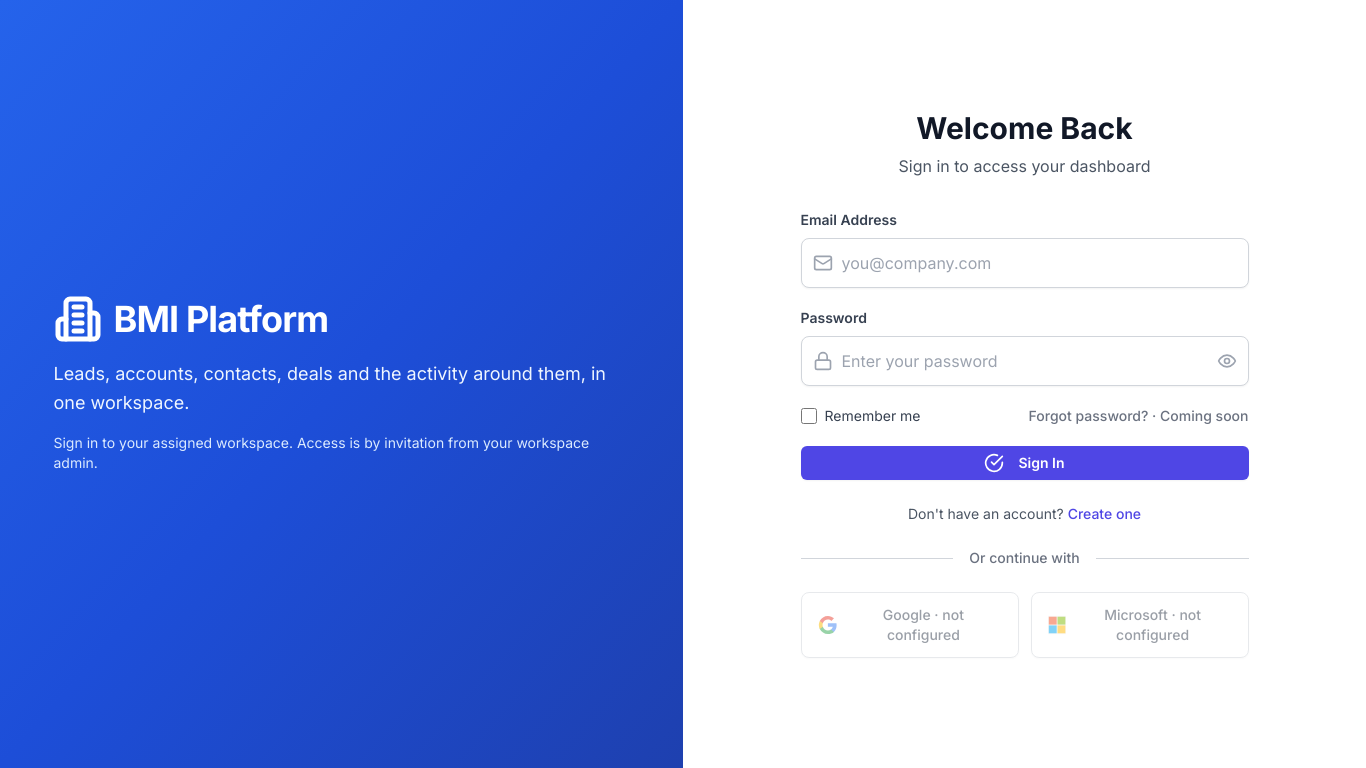
Test: Login when the backend cannot be reached › a refused connection (server not running) says "Can't reach the server"
The width and height of the screenshot is (1366, 768).
In the field with id "email": (1024, 263) [800,238,1248,288], type "asha@kora.example"
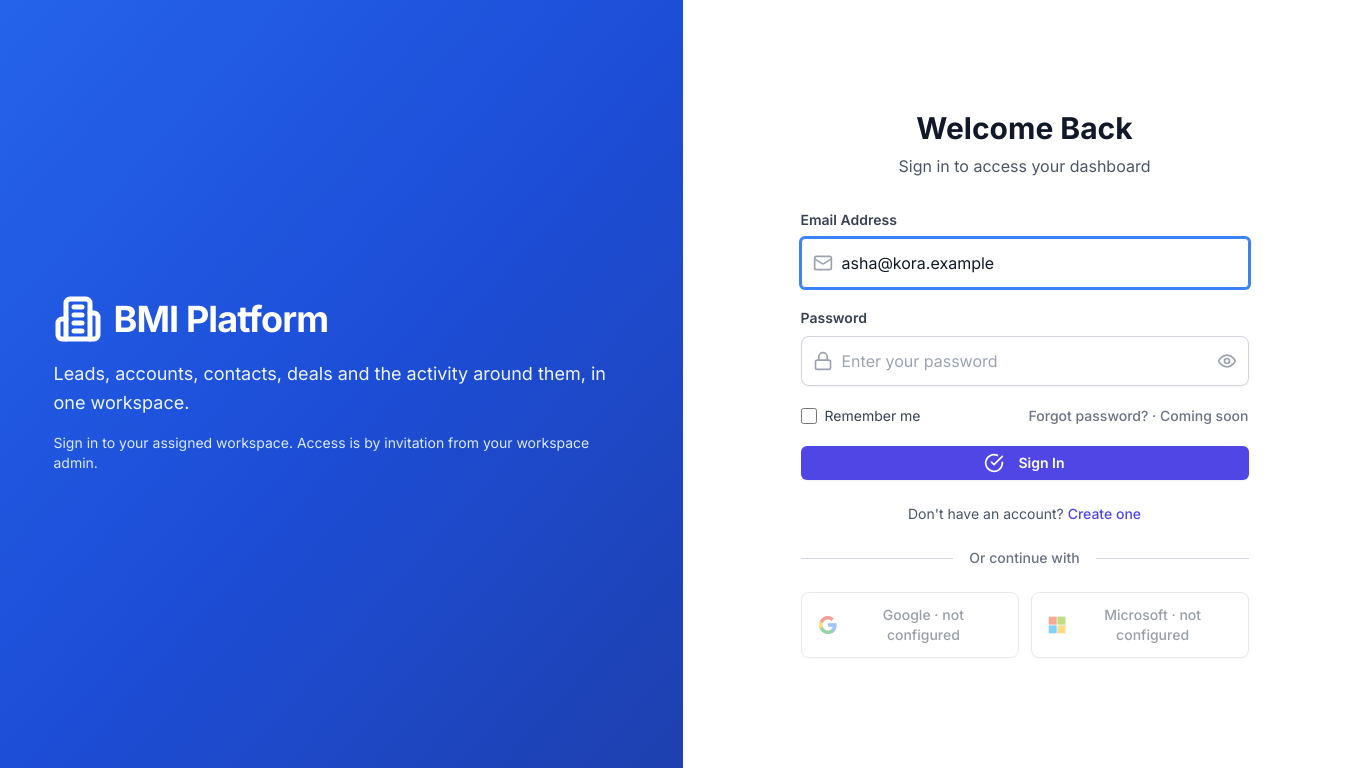
In the password field labelled "Password": (1024, 361) [800,336,1248,386], type "correct-horse-battery"
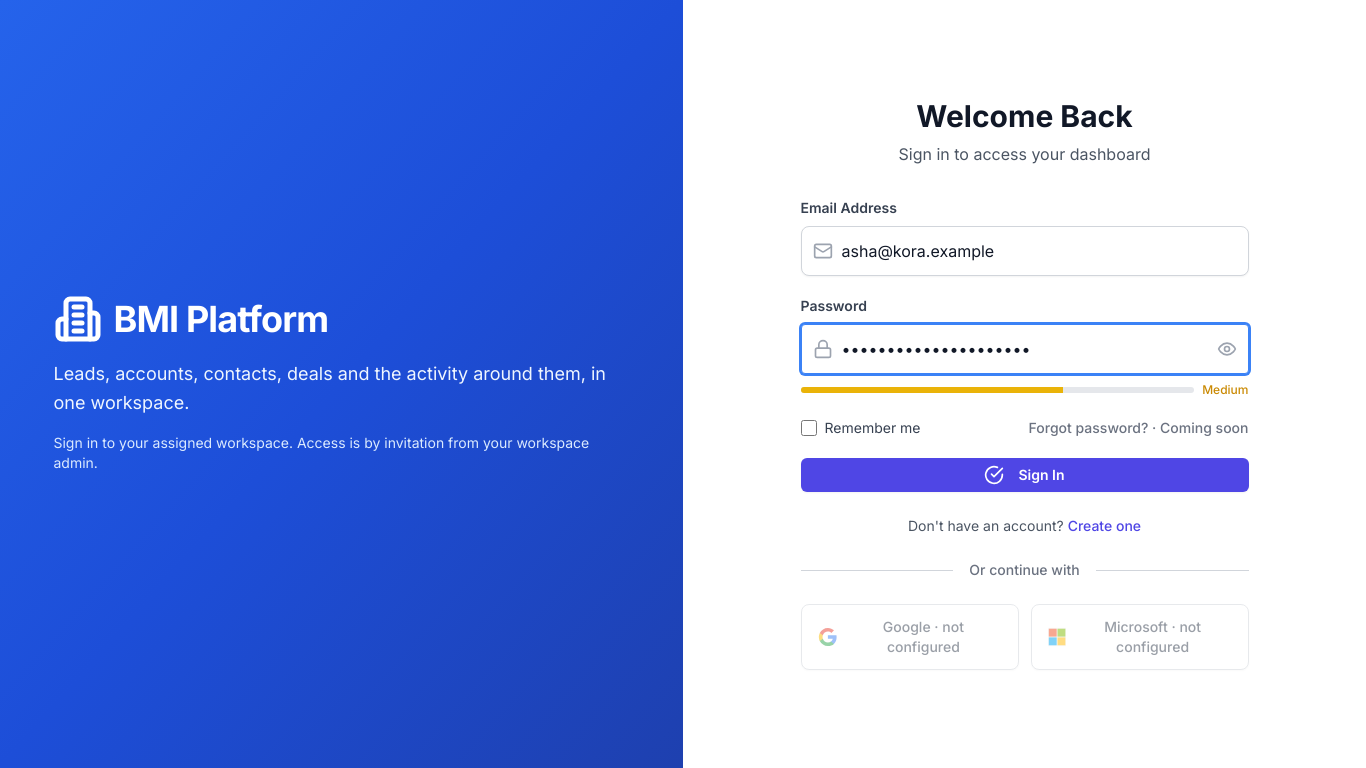
Click the button "Sign In": (1024, 475) [800,458,1248,492]
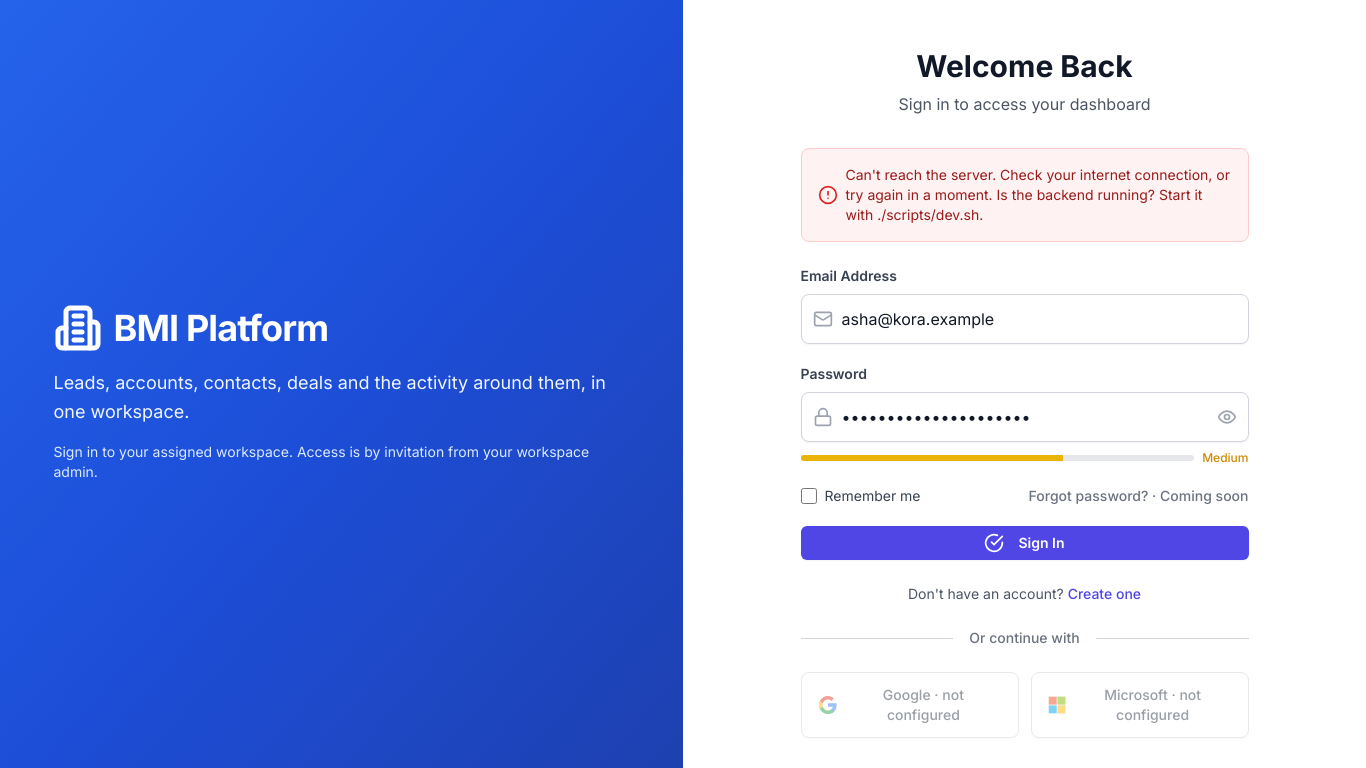
Expected: the text "Can't reach the server" shows "Is the backend running? Start it with ./scripts/dev.sh.", [846,166,1230,223]
